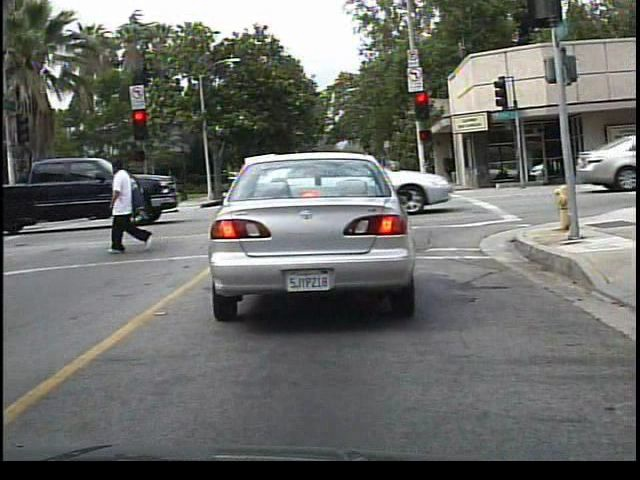person: (104, 152, 157, 254)
